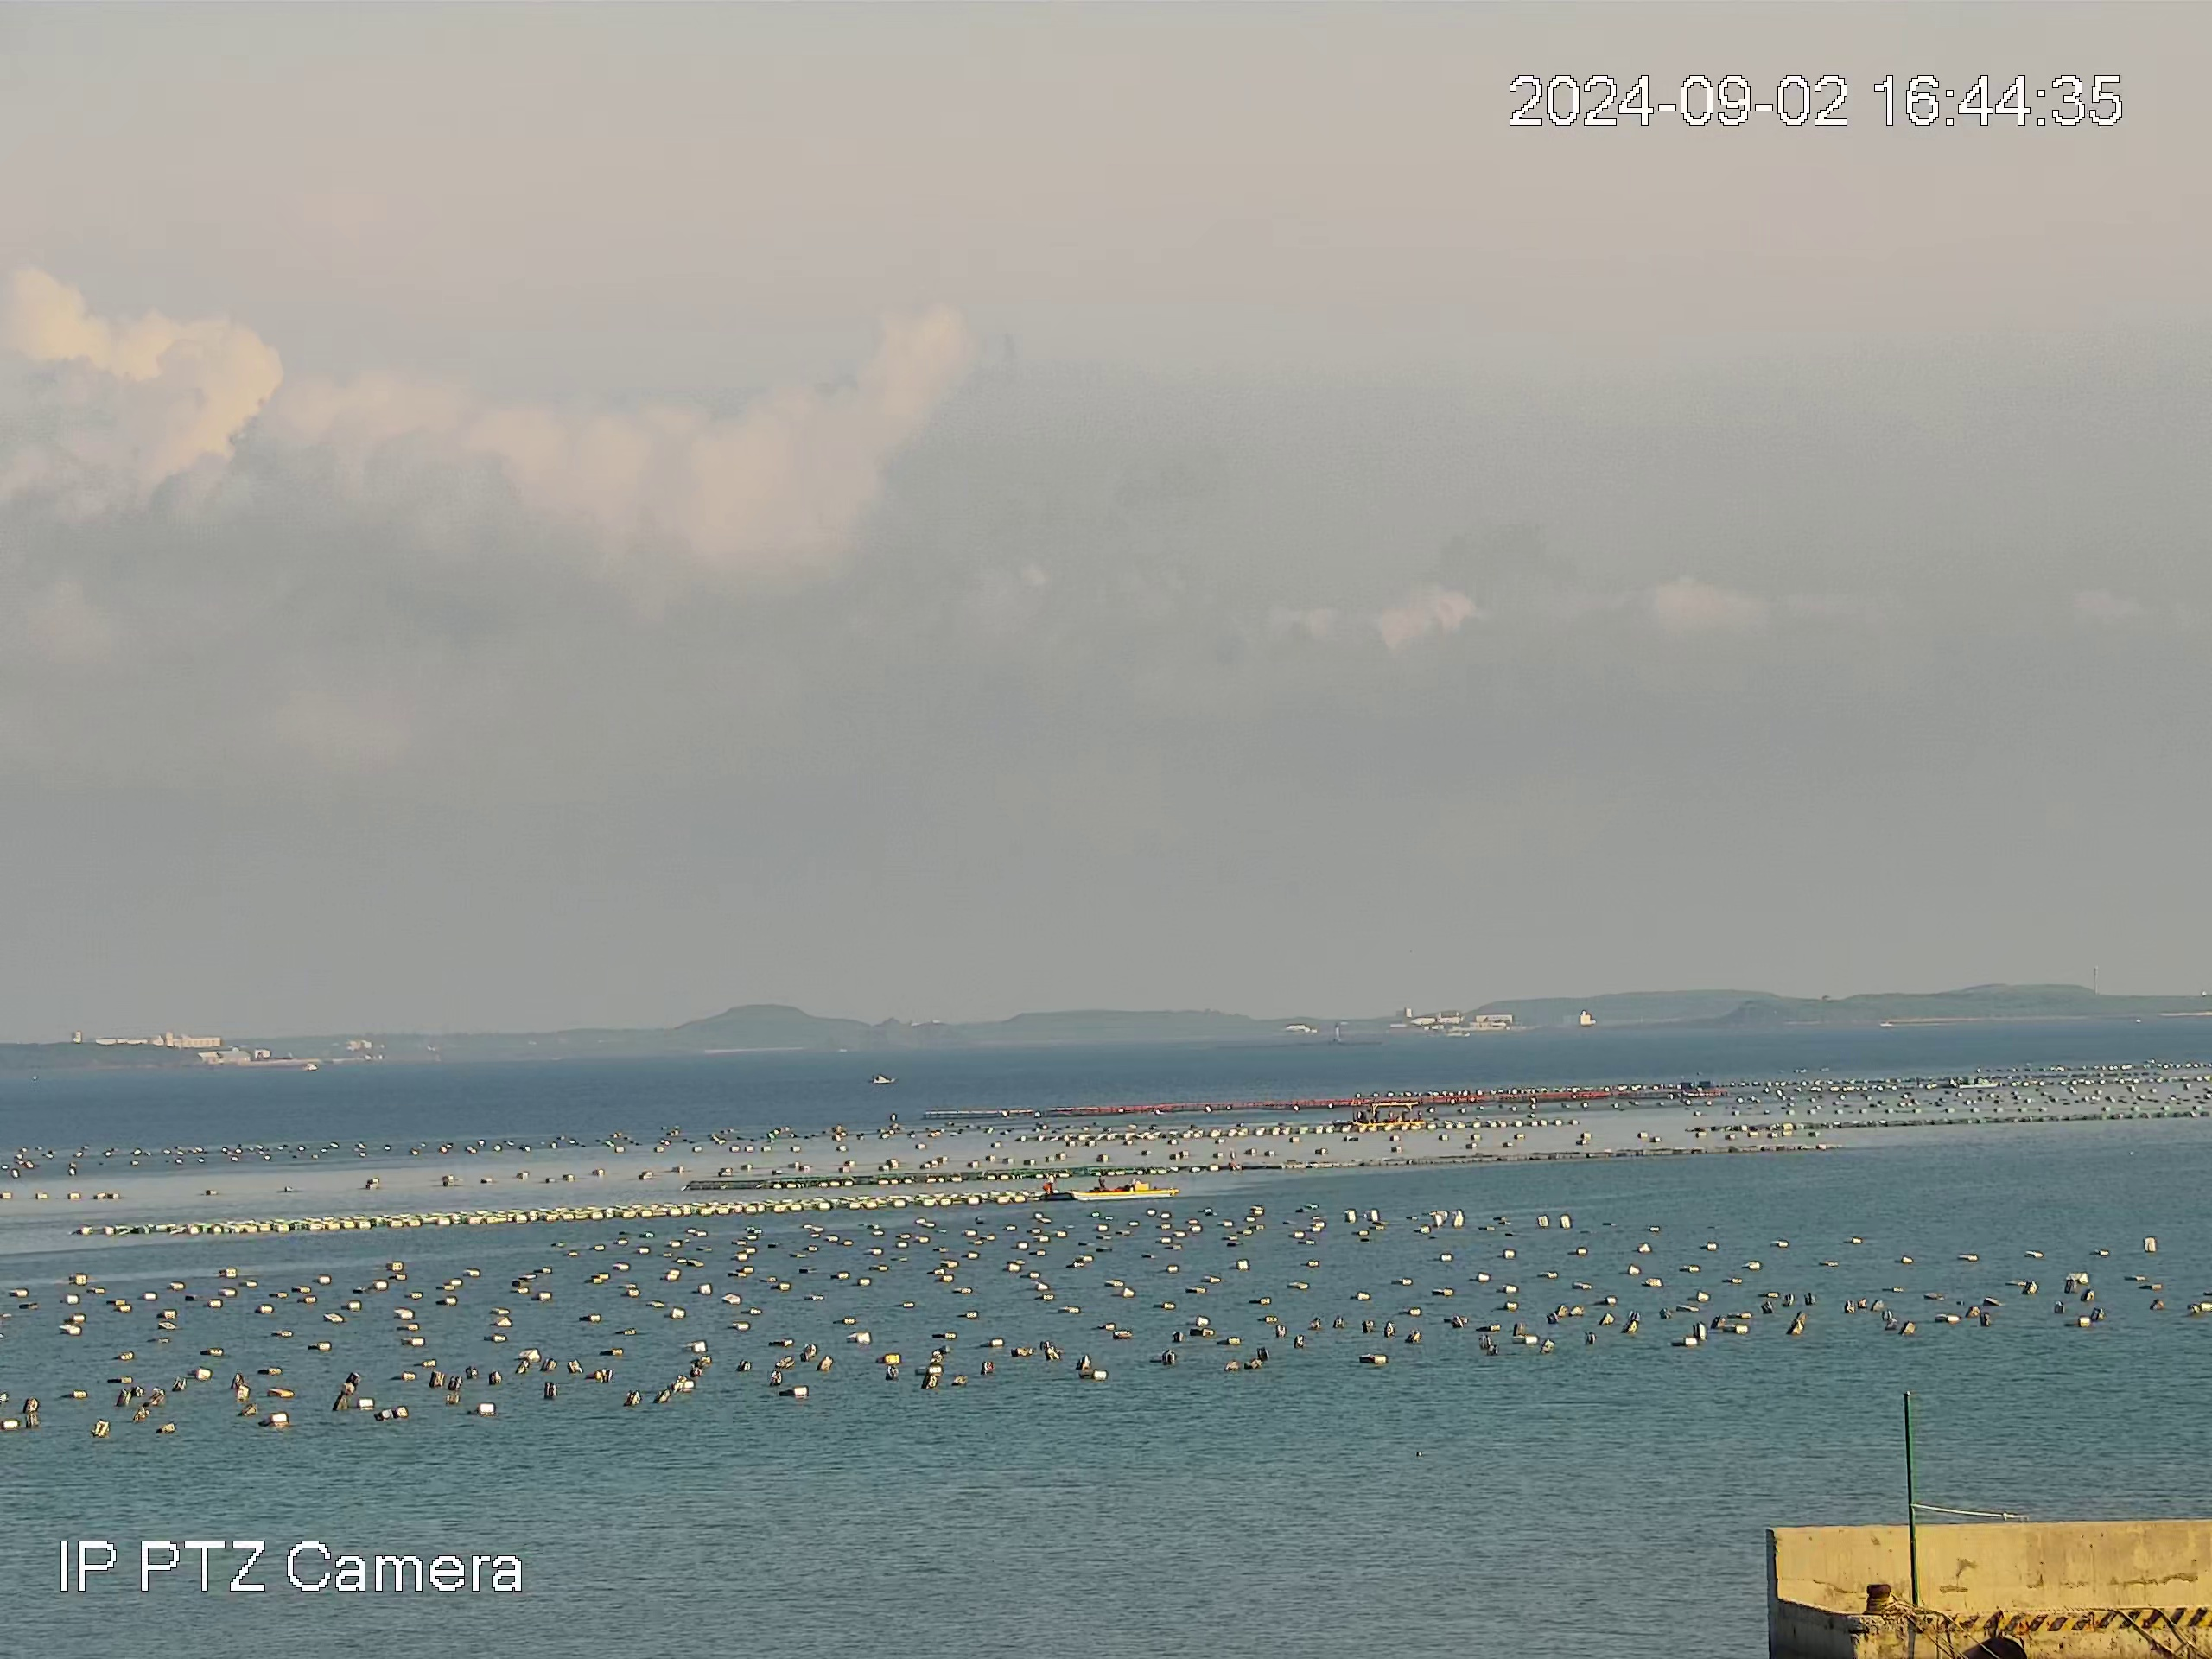boat: (1036, 1171, 1180, 1202), (1348, 1099, 1428, 1128), (1955, 1075, 1999, 1090), (871, 1072, 896, 1085)
